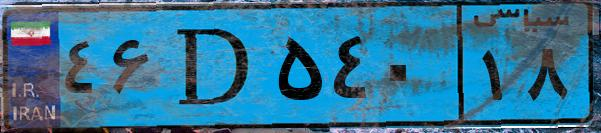0: (385, 28, 445, 110)
1: (475, 38, 525, 113)
4: (330, 28, 385, 110), (57, 26, 110, 100)
5: (270, 28, 330, 110)
6: (110, 28, 158, 98)
8: (525, 38, 570, 115)
D: (158, 12, 270, 120)
